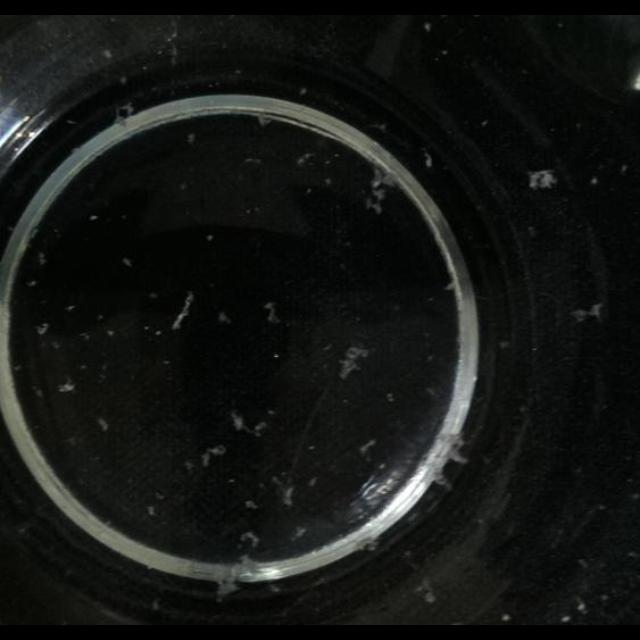Fibre: (364, 162, 394, 220), (336, 346, 370, 380), (214, 568, 243, 600), (230, 409, 264, 435), (169, 295, 195, 329), (270, 474, 296, 506), (570, 302, 604, 324), (372, 166, 400, 192), (414, 576, 438, 604), (200, 444, 228, 468), (260, 298, 284, 326), (116, 102, 136, 121), (358, 438, 376, 456), (240, 531, 258, 547), (421, 148, 433, 170), (97, 418, 109, 432), (218, 312, 230, 324), (186, 133, 196, 145)
microbeads: (527, 170, 557, 190), (57, 380, 75, 394), (36, 322, 49, 336)
